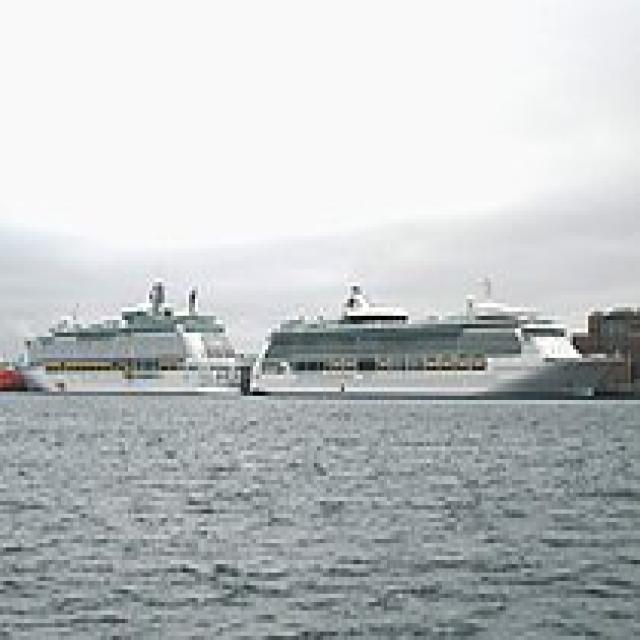Cruise: (241, 274, 625, 396), (9, 274, 244, 396)
